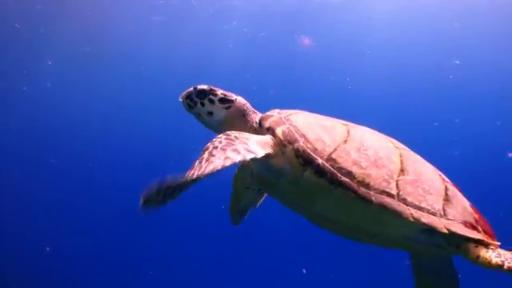Fish: (141, 86, 511, 287)
